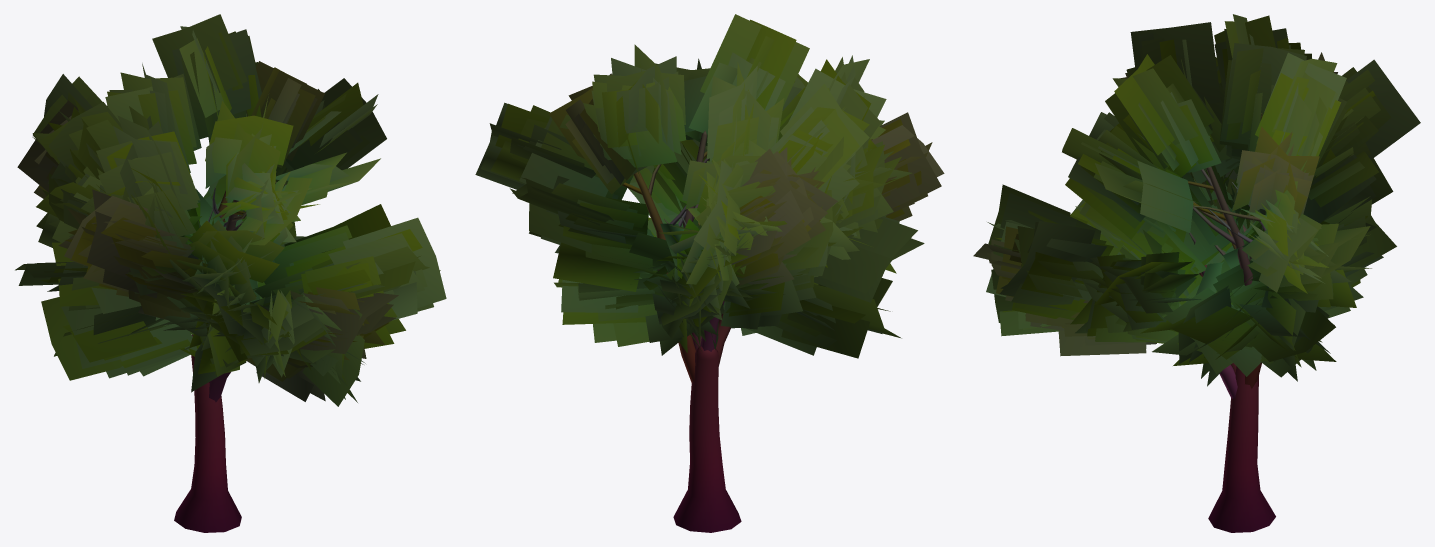
Rendered from veg_oak_b.glb.
3 renders of one model, left to right at view 1: azimuth 30°, elevation 25°; view 2: azimuth 150°, elevation 25°; view 3: azimuth 270°, elevation 25°, orthographic. The views are drawn at different scales.
Parts seen in each view (by area): view 1: veg_oak_b_LOD0; view 2: veg_oak_b_LOD0; view 3: veg_oak_b_LOD0.
Part boxes in pixels (x1=…): veg_oak_b_LOD0: x1=15, y1=14, x2=446, y2=532; veg_oak_b_LOD0: x1=475, y1=14, x2=944, y2=532; veg_oak_b_LOD0: x1=973, y1=14, x2=1420, y2=532.
Size of what is drawn, in the model's own units: 2.98 by 3.47 by 2.94.
